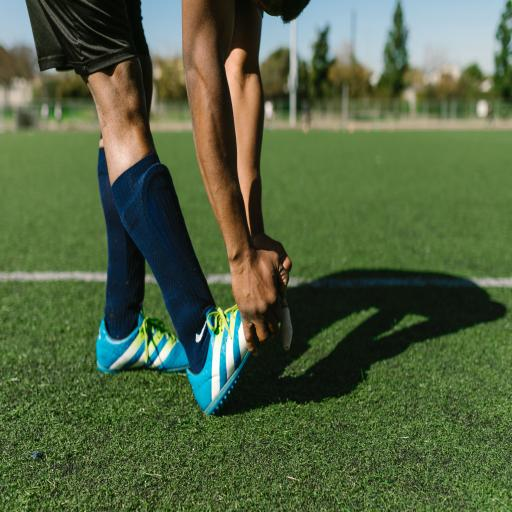shoe: (187, 306, 249, 414), (97, 313, 189, 373)
